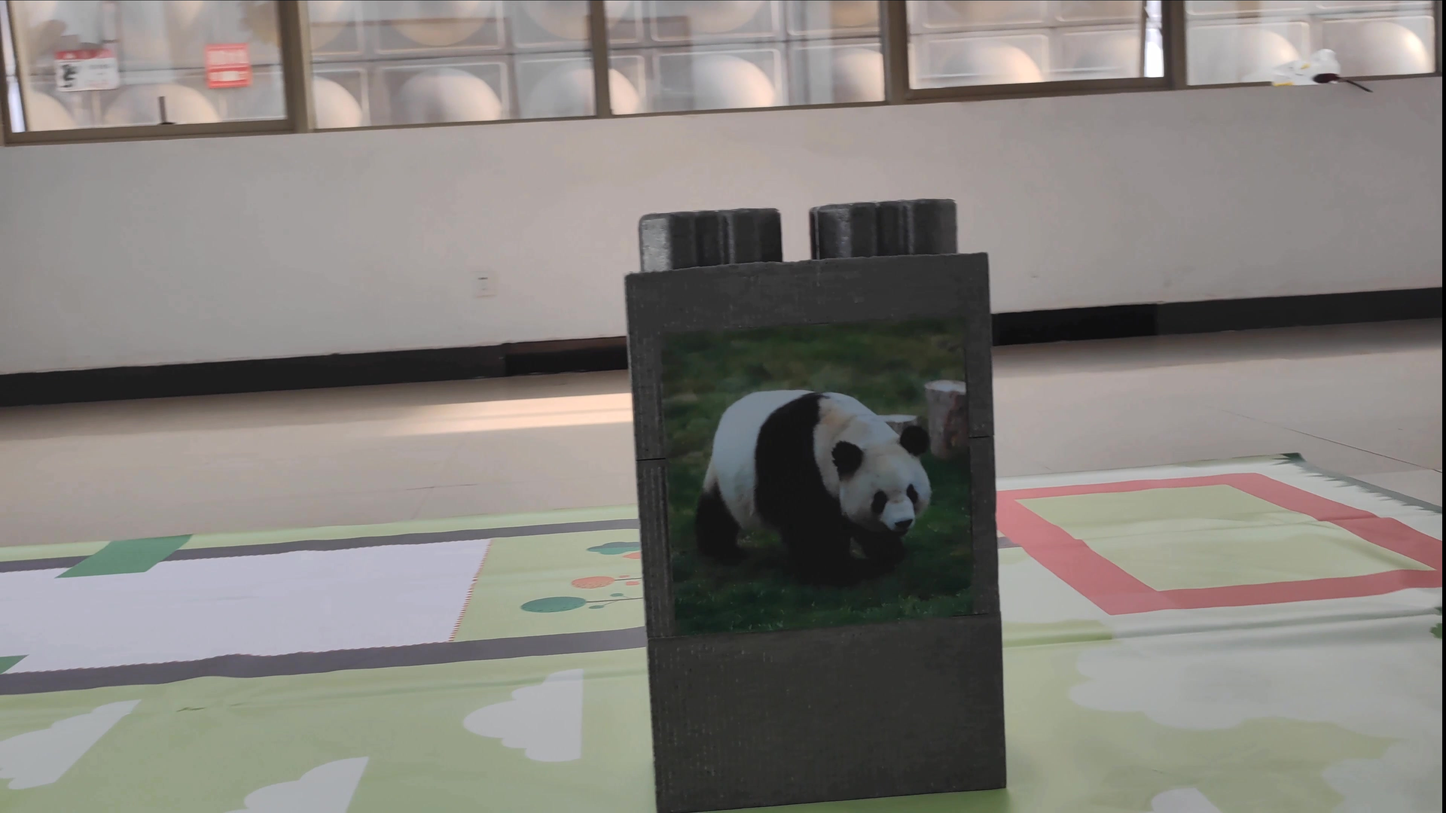panda: (657, 370, 952, 612)
